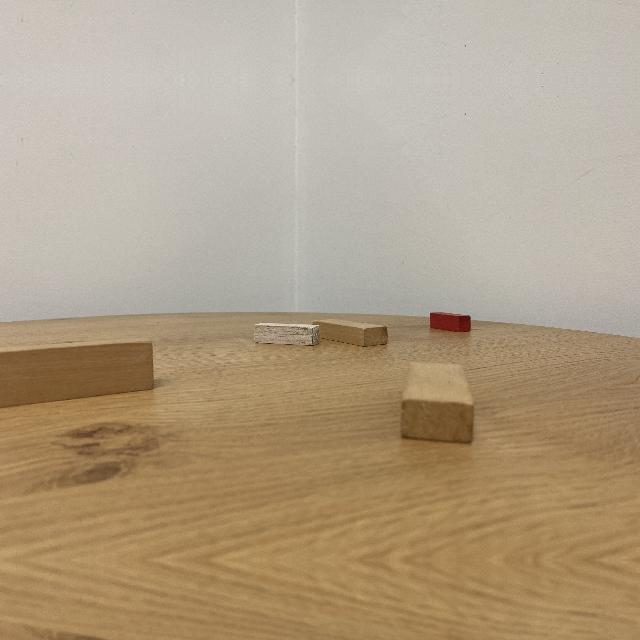block: (252, 326, 318, 344)
jenga: (0, 340, 155, 410), (400, 361, 475, 446), (312, 319, 388, 347)
red block: (430, 312, 471, 332)
